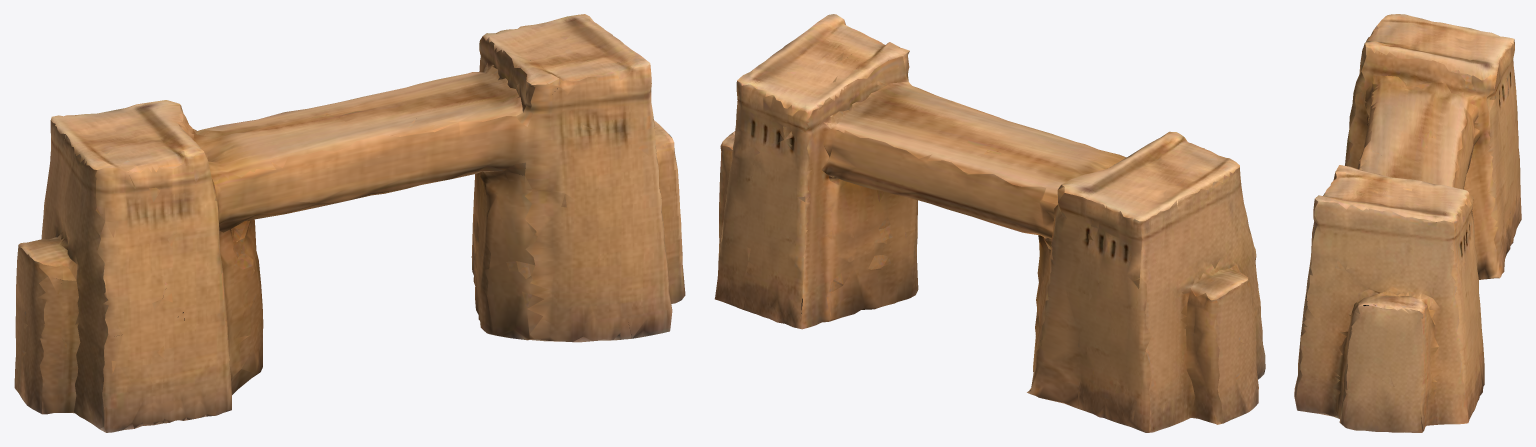
Rendered from uruk-city-gate.glb.
3 views of the same model, side by side, from view 1: azimuth 30°, elevation 25°; view 2: azimuth 150°, elevation 25°; view 3: azimuth 270°, elevation 25° (orthographic). The views are drawn at different scales.
Visible parts, largest first — view 1: world; view 2: world; view 3: world.
Boxes of the visible parts, <box> form: world: <box>14,14,685,432</box>; world: <box>714,14,1265,432</box>; world: <box>1294,14,1521,432</box>.
Bounding box in the file's own units: 0.9702 × 0.3995 × 0.3932.
1 material, 1 textured.
